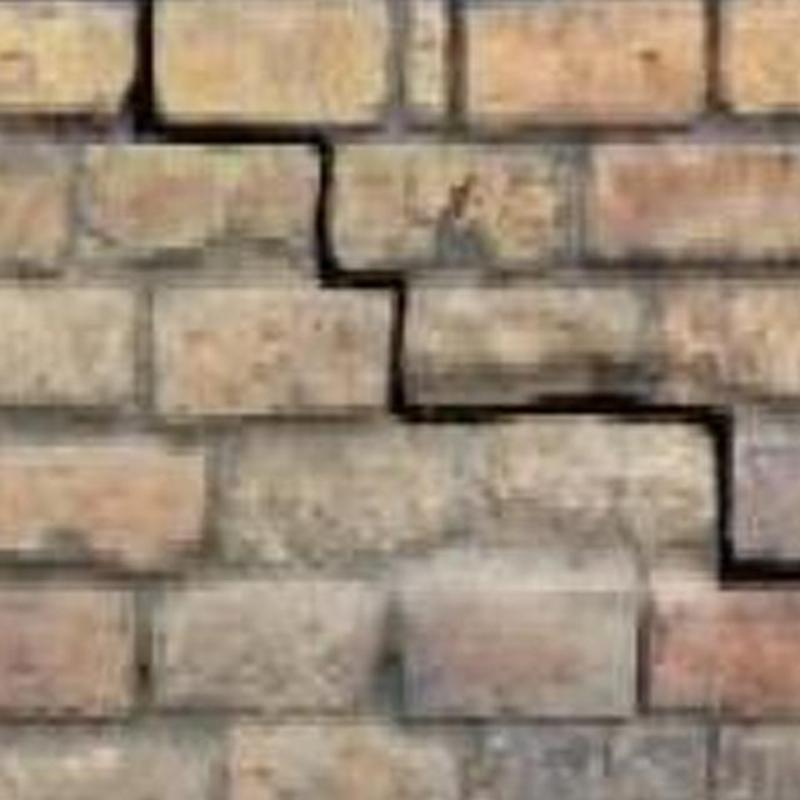pothole: (125, 0, 799, 580)
